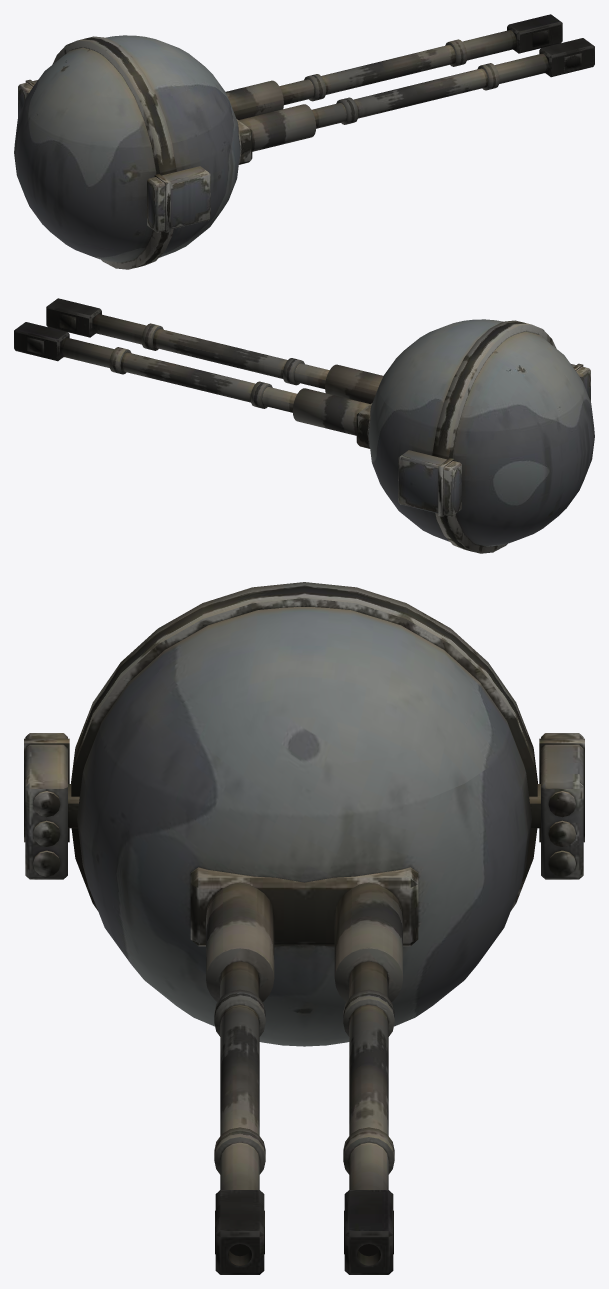
The model's file is turret_kit_tail_ball_t2_sea_fog.glb.
The picture shows the model from 3 angles, top to bottom: view 1: azimuth 30°, elevation 25°; view 2: azimuth 150°, elevation 25°; view 3: azimuth 270°, elevation 25°; orthographic projection. The views are drawn at different scales.
Visible parts, largest first — view 1: turret_tail_ball_t2, pods; view 2: turret_tail_ball_t2, pods; view 3: turret_tail_ball_t2, pods.
Part boxes in pixels (x1=…): turret_tail_ball_t2: x1=14, y1=14, x2=594, y2=269; pods: x1=18, y1=79, x2=210, y2=232; turret_tail_ball_t2: x1=14, y1=298, x2=594, y2=553; pods: x1=398, y1=363, x2=590, y2=516; turret_tail_ball_t2: x1=71, y1=582, x2=537, y2=1274; pods: x1=24, y1=733, x2=584, y2=879.
Size of the model in its own units: 1.66 by 0.62 by 0.7402.
2 materials, 2 textured.
